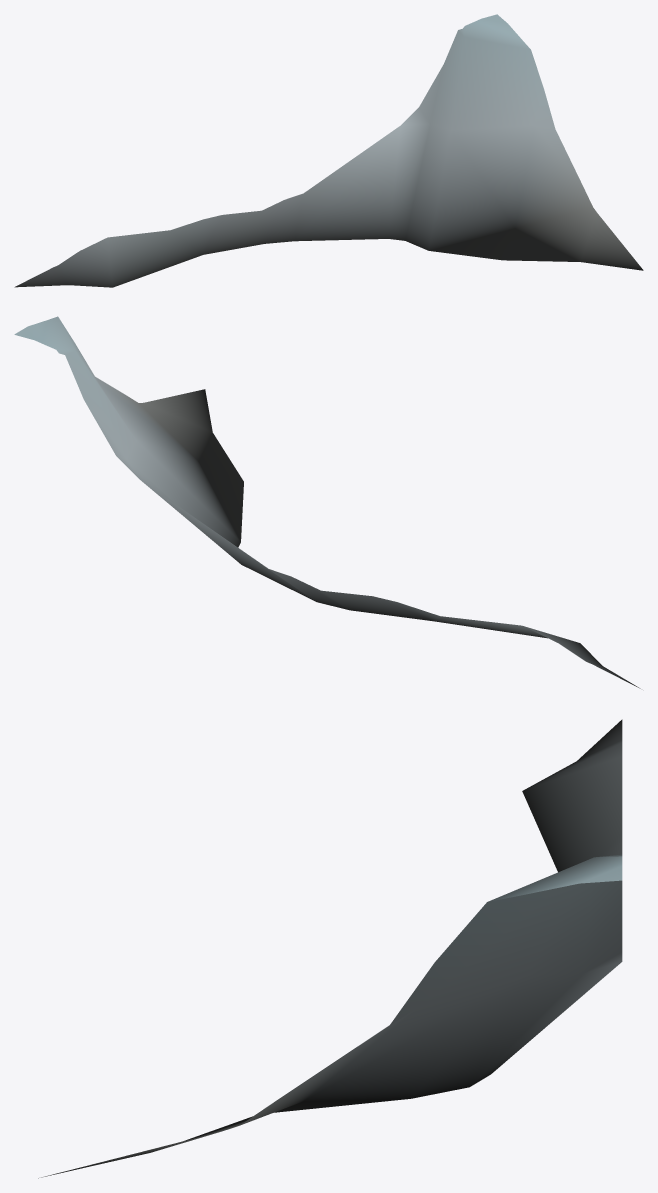
3 renders of one model, top to bottom at view 1: azimuth 30°, elevation 25°; view 2: azimuth 150°, elevation 25°; view 3: azimuth 270°, elevation 25°, orthographic. The views are drawn at different scales.
Parts seen in each view (by area): view 1: G:\FFXIV-MapTools\exports\s1f2\bg\ffxiv\sea_s1\fld\s1f2\bgpl; view 2: G:\FFXIV-MapTools\exports\s1f2\bg\ffxiv\sea_s1\fld\s1f2\bgpl; view 3: G:\FFXIV-MapTools\exports\s1f2\bg\ffxiv\sea_s1\fld\s1f2\bgpl.
Boxes of the visible parts, bbox=[...] form: G:\FFXIV-MapTools\exports\s1f2\bg\ffxiv\sea_s1\fld\s1f2\bgpl: bbox=[14, 18, 643, 287]; G:\FFXIV-MapTools\exports\s1f2\bg\ffxiv\sea_s1\fld\s1f2\bgpl: bbox=[28, 316, 640, 688]; G:\FFXIV-MapTools\exports\s1f2\bg\ffxiv\sea_s1\fld\s1f2\bgpl: bbox=[38, 719, 622, 1178].
Size of the model in its own units: 35.84 by 11.93 by 18.84.
